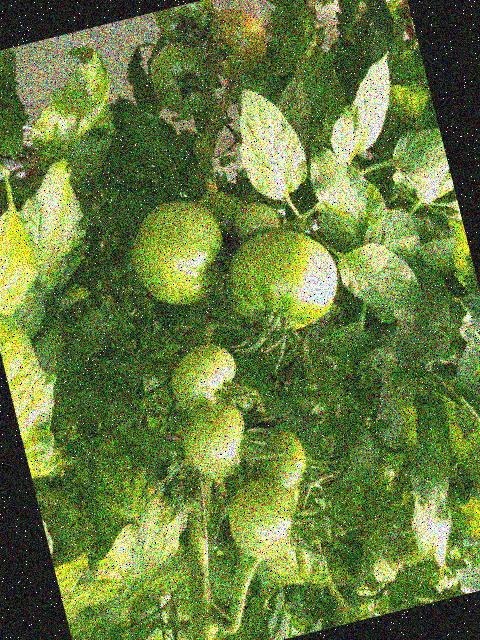b_green: (214, 216, 349, 343), (120, 190, 238, 315), (220, 471, 308, 567), (174, 396, 256, 485), (144, 33, 221, 122), (234, 422, 314, 506), (164, 337, 245, 417), (197, 184, 258, 258), (213, 376, 272, 448), (153, 0, 224, 55), (230, 196, 283, 244)
b_half_ripened: (197, 1, 274, 84)
